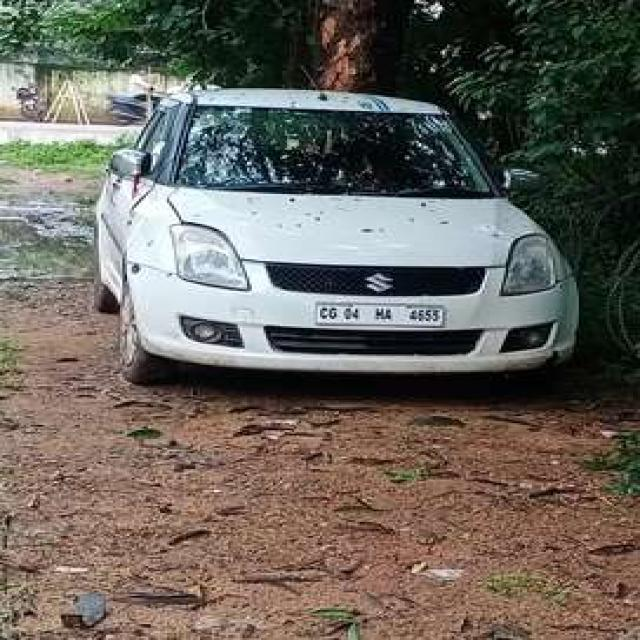licenseplate: (311, 300, 447, 326)
